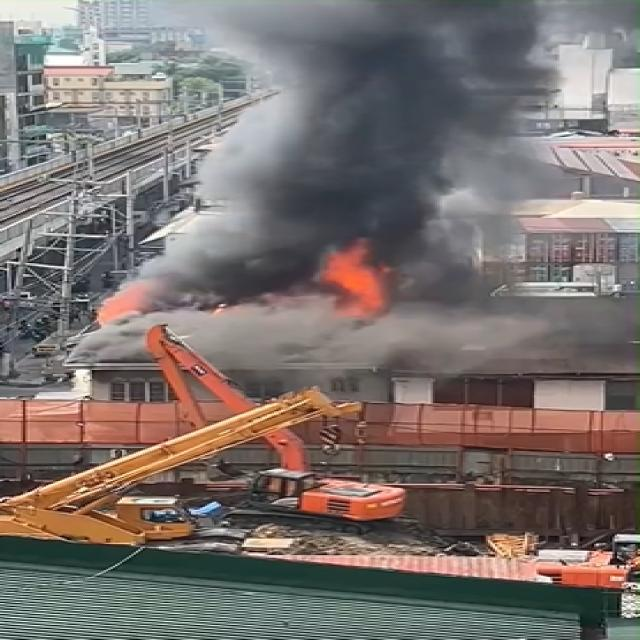Fire: (316, 242, 394, 322), (98, 279, 162, 327)
Smoke: (104, 0, 538, 322), (85, 309, 640, 373)
